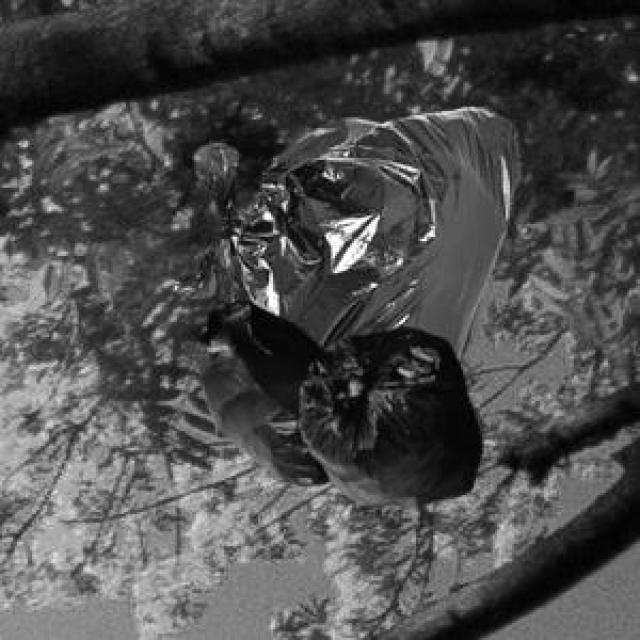miscellaneous trash: (170, 102, 516, 356), (192, 299, 478, 504)
